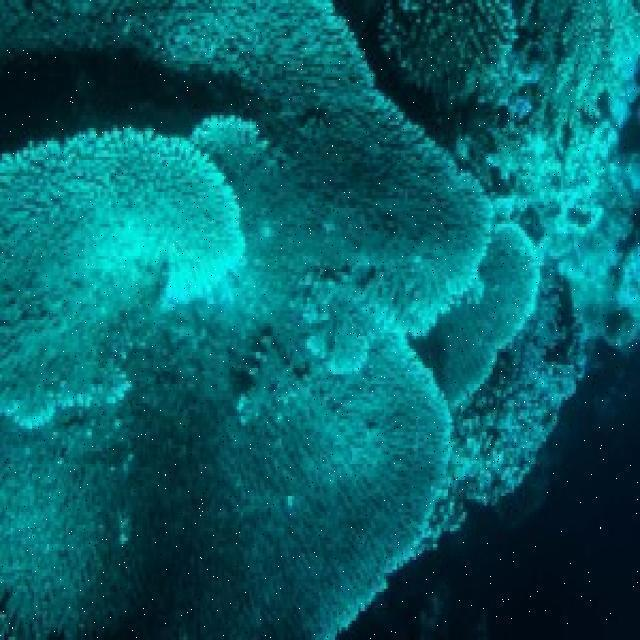Bleached: (1, 1, 498, 640), (1, 104, 255, 437)
